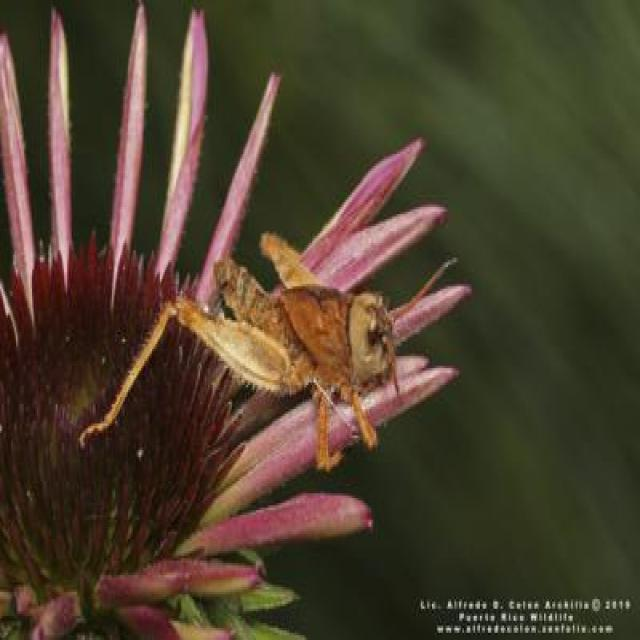antennae: (394, 261, 459, 318)
body: (244, 285, 395, 399)
insect: (76, 232, 462, 469)
legs: (88, 294, 293, 438), (258, 235, 326, 285), (343, 381, 377, 448), (321, 388, 340, 472)
mouthpart: (356, 372, 391, 392)
